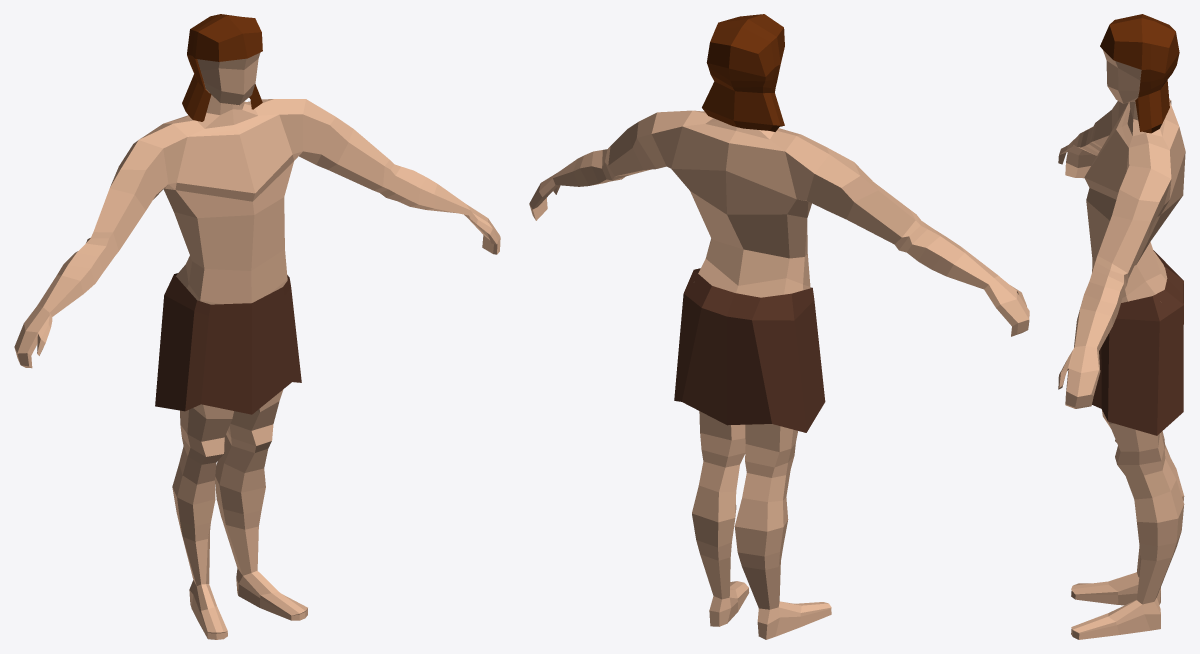
Rendered from main.fbx.
3 views of the same model, side by side, from view 1: azimuth 30°, elevation 25°; view 2: azimuth 150°, elevation 25°; view 3: azimuth 270°, elevation 25° (orthographic). The views are drawn at different scales.
Visible parts, largest first — view 1: BODY, DRESS, HAIR; view 2: BODY, DRESS, HAIR; view 3: BODY, DRESS, HAIR.
Part boxes in pixels (x1,y1,x2,y2): BODY: (14,52,500,639); DRESS: (155,273,301,414); HAIR: (182,14,262,121); BODY: (529,110,1029,639); DRESS: (674,268,825,432); HAIR: (702,14,784,131); BODY: (1058,50,1185,639); DRESS: (1092,250,1183,435); HAIR: (1100,14,1179,133).
Size of the model in its own units: 390 by 455 by 87.89.
